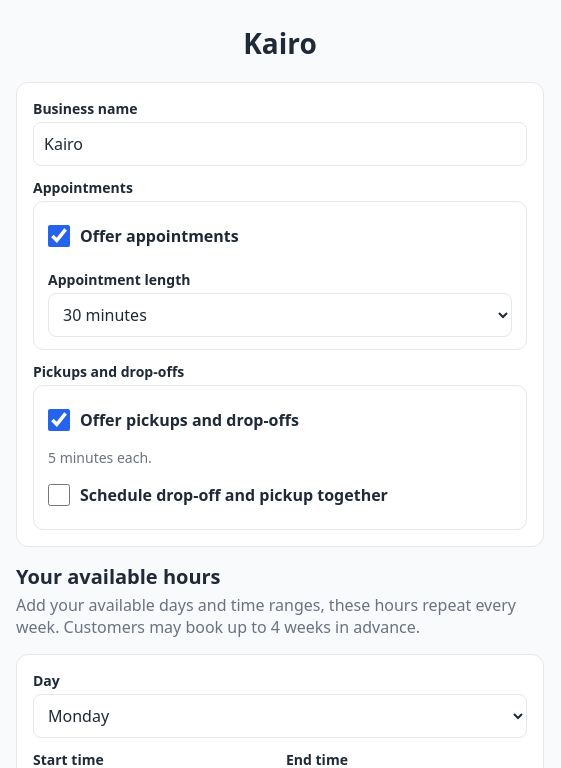
Business page › adds and removes available hours
Select "Tuesday" in the dropdown labelled "Day": (280,716) top-left (33, 694), bottom-right (527, 738)
(page scrolled)
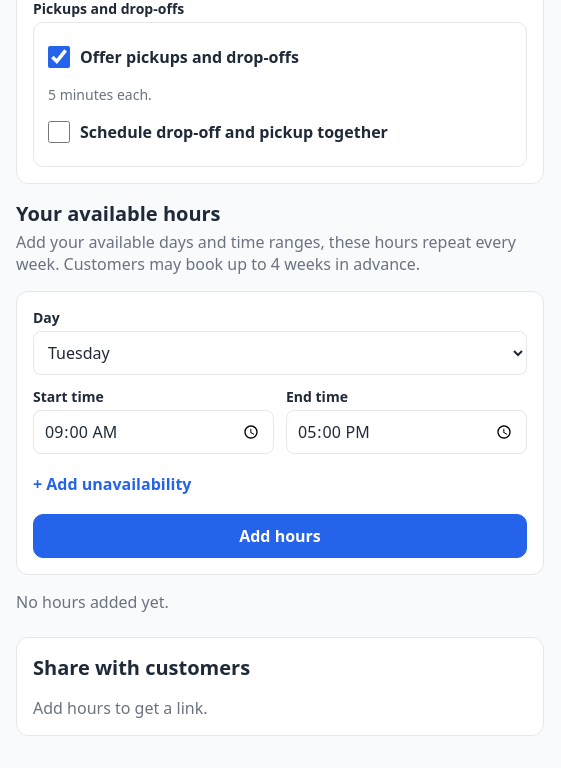
Replace the text in the time field labelled "Start time" with "10:00": (154,432) top-left (33, 410), bottom-right (274, 454)
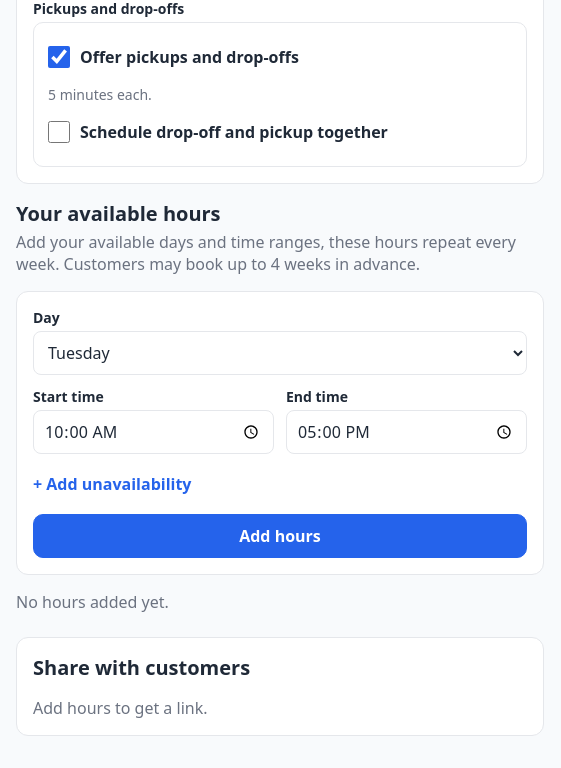
Replace the text in the time field labelled "End time" with "14:00": (406,432) top-left (286, 410), bottom-right (527, 454)
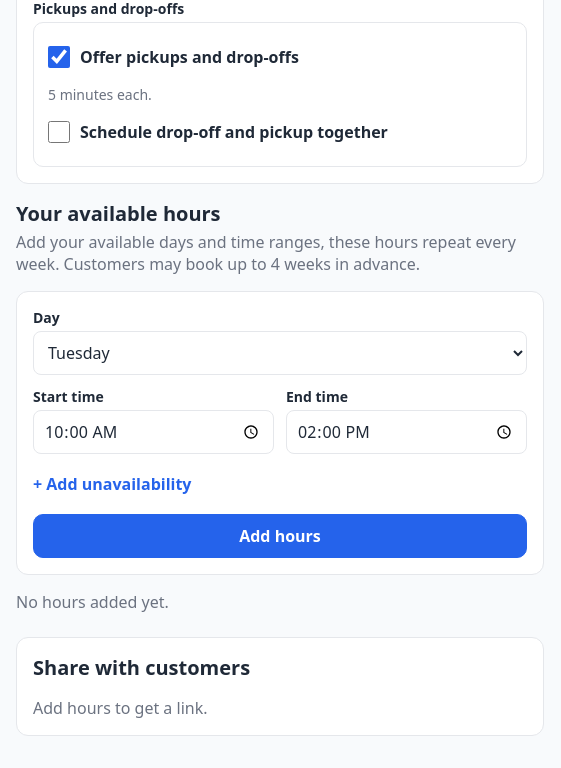
Click the button "Add hours": (280,536) top-left (33, 514), bottom-right (527, 558)
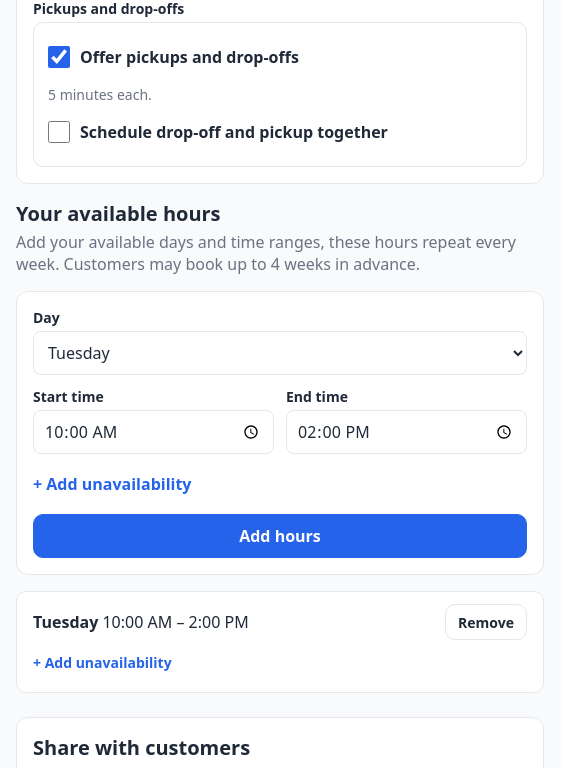
Expected: the text "Tuesday" is shown, top-left (33, 611), bottom-right (98, 633)
Expected: the text "Tuesday 10:00 AM – 2:00 PM" is shown, top-left (33, 611), bottom-right (249, 633)
Click the button with aria-label "Remove Tuesday 10:00 AM – 2:00 PM": (486,622) top-left (445, 604), bottom-right (527, 640)
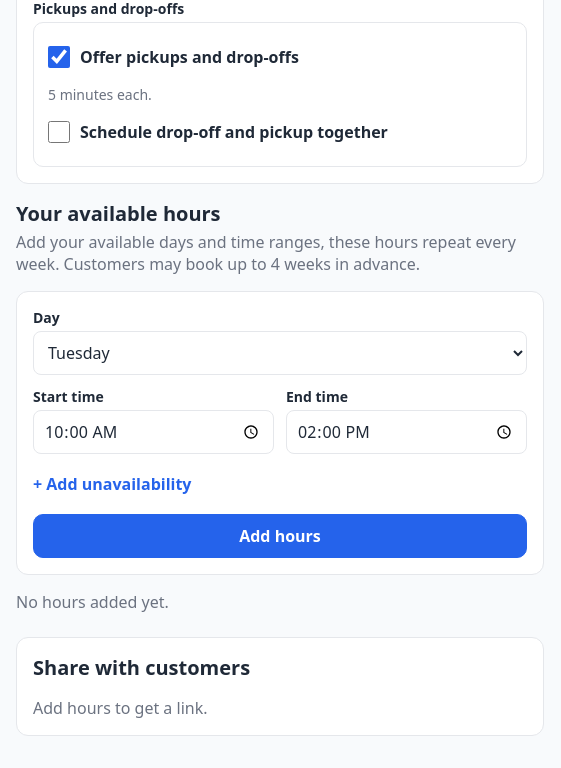
Expected: the text "No hours added yet." is shown, top-left (16, 591), bottom-right (169, 613)
